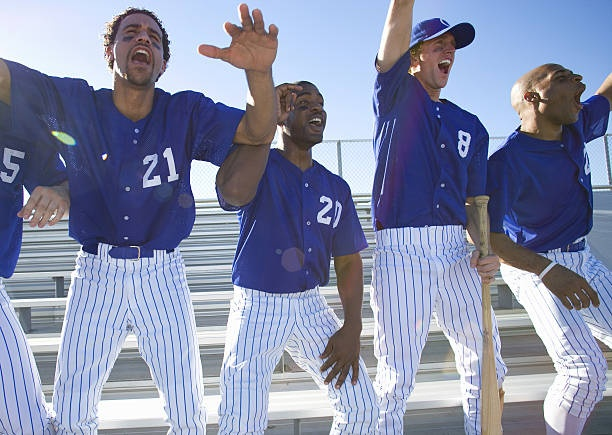bita: (473, 193, 493, 435)
